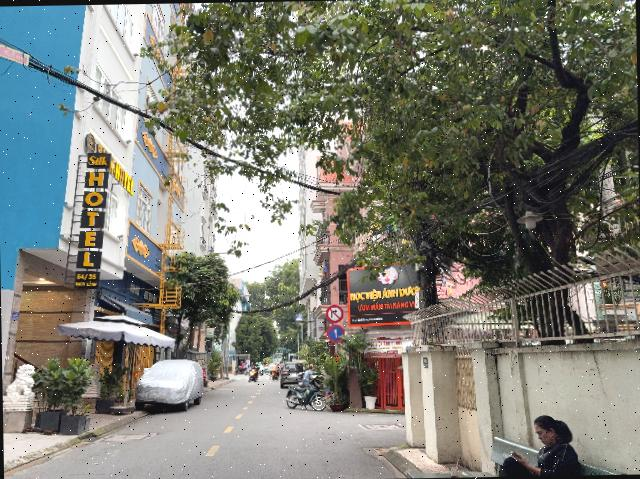cam-do-xe-ngay-le: (326, 323, 345, 344)
cam-re-phai: (326, 304, 344, 322)
